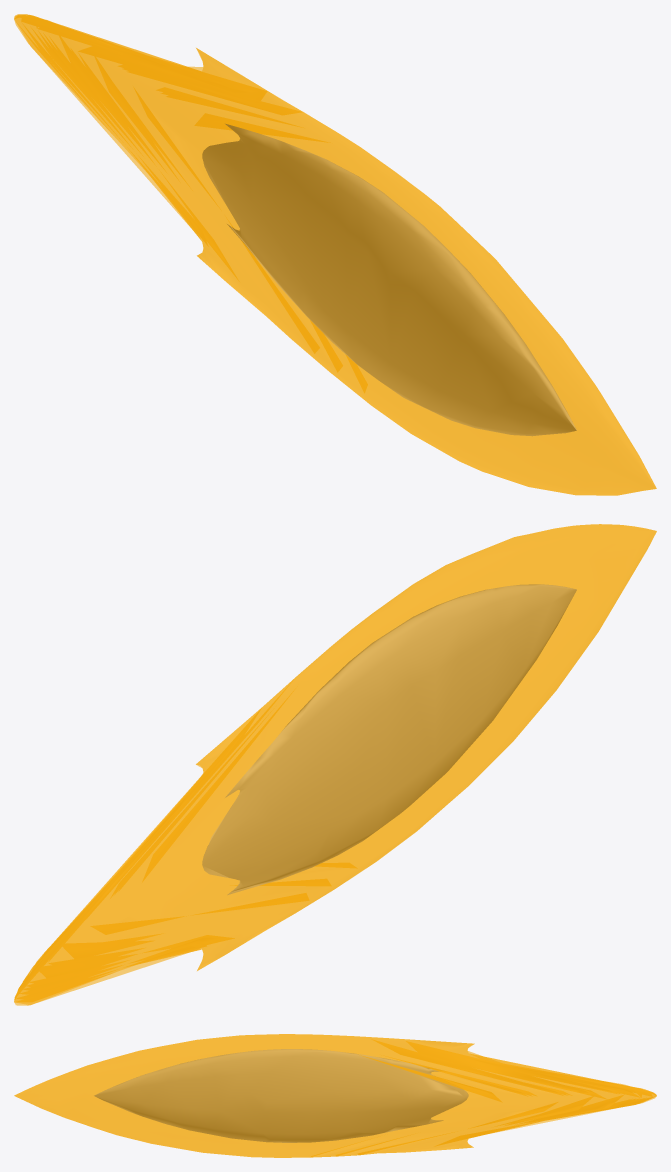
File: FX_spear.fbx
3 views of the same model, one above another, from view 1: azimuth 30°, elevation 25°; view 2: azimuth 150°, elevation 25°; view 3: azimuth 270°, elevation 25° (orthographic). The views are drawn at different scales.
Parts seen in each view (by area): view 1: nurbsToPoly2, nurbsToPoly1; view 2: nurbsToPoly2, nurbsToPoly1; view 3: nurbsToPoly2, nurbsToPoly1.
Part boxes in pixels (x1,y1,x2,y2): nurbsToPoly2: (14, 14, 656, 495); nurbsToPoly1: (202, 124, 576, 435); nurbsToPoly2: (14, 524, 656, 1005); nurbsToPoly1: (202, 584, 576, 894); nurbsToPoly2: (14, 1034, 656, 1157); nurbsToPoly1: (94, 1049, 468, 1142).
Bounding box in the file's own units: 0.000538 × 0.00189 × 0.00894.
